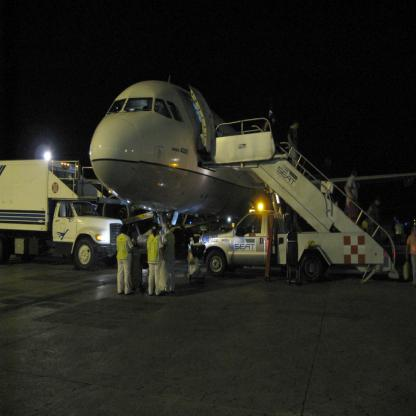Truck: (0, 159, 123, 271)
